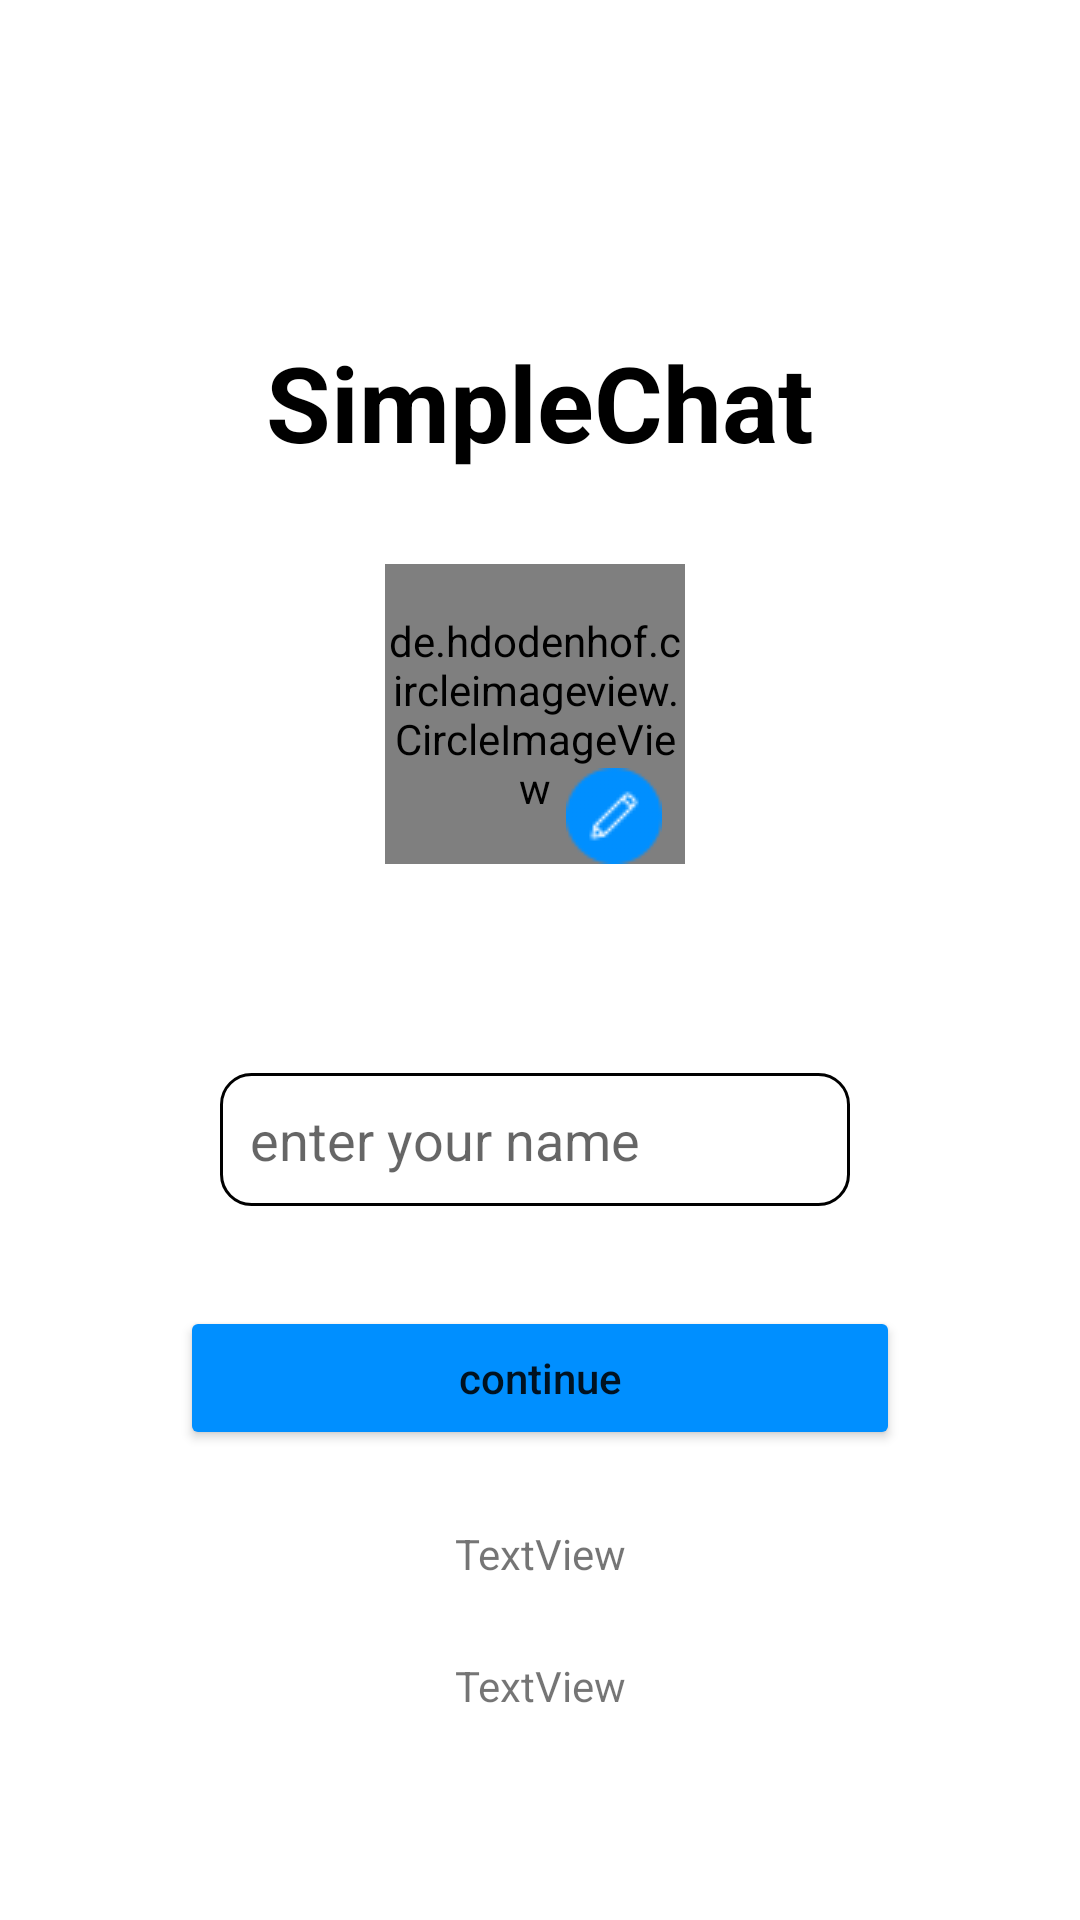

Where to tap for icons on this 1080*1920 app screen, as (x=x, y=y):
pencil: (x=614, y=816)
